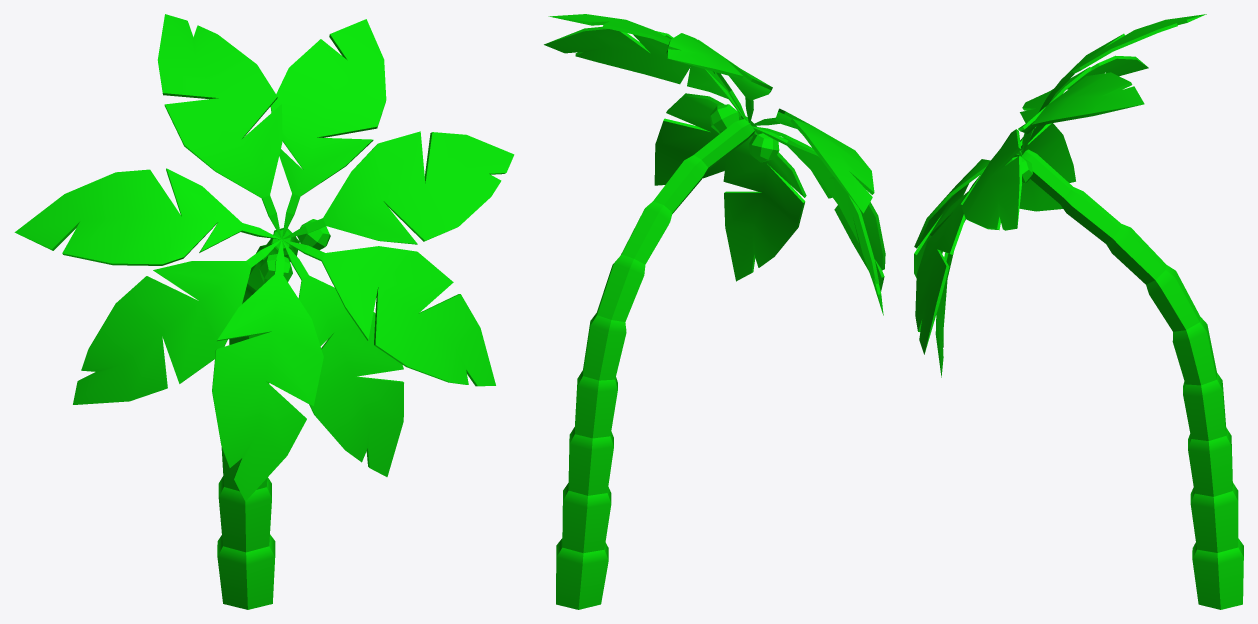
Rendered from palm_tree_2.fbx.
3 renders of one model, left to right at view 1: azimuth 30°, elevation 25°; view 2: azimuth 150°, elevation 25°; view 3: azimuth 270°, elevation 25°, orthographic. The views are drawn at different scales.
Visible parts, largest first — view 1: palm_tree_2; view 2: palm_tree_2; view 3: palm_tree_2.
Boxes of the visible parts, <box> form: palm_tree_2: <box>14,14,514,609</box>; palm_tree_2: <box>544,14,885,609</box>; palm_tree_2: <box>914,14,1243,609</box>.
Size of the model in its own units: 9.39 by 12.87 by 7.05.
